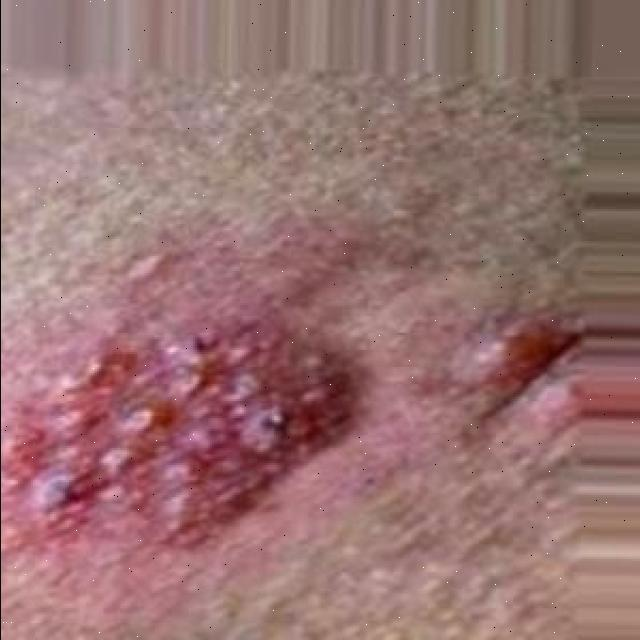Shingles: (19, 310, 347, 528)
